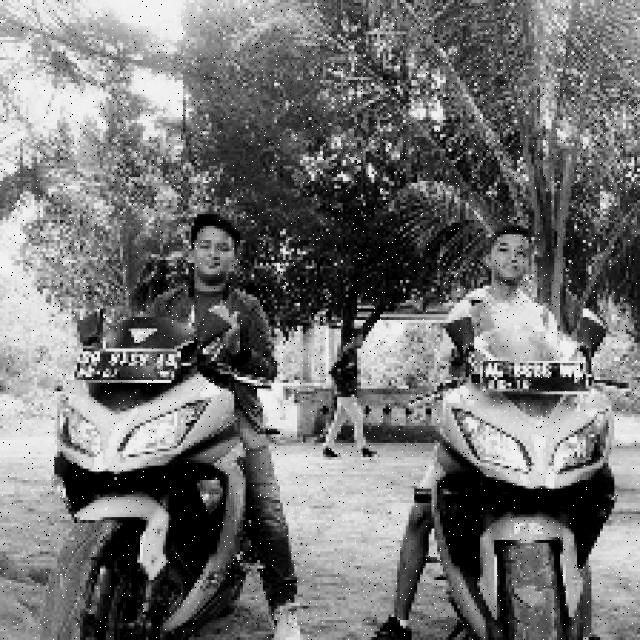Bike: (47, 320, 253, 640), (428, 343, 617, 639)
